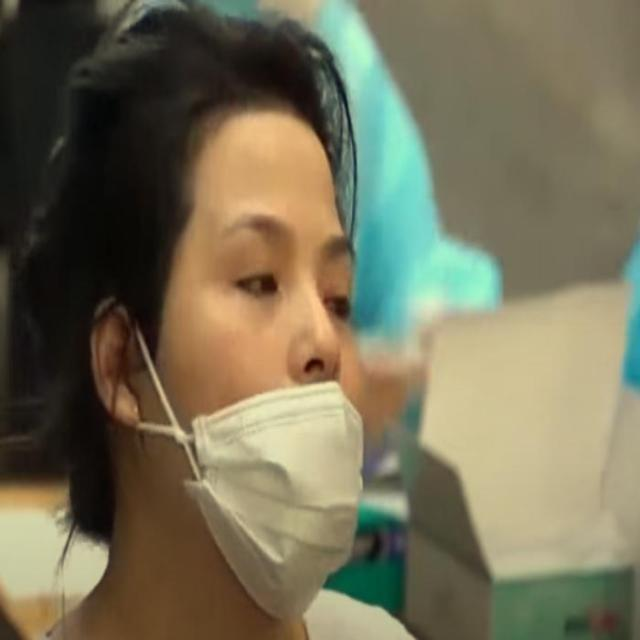hairnet: (198, 189, 366, 616)
